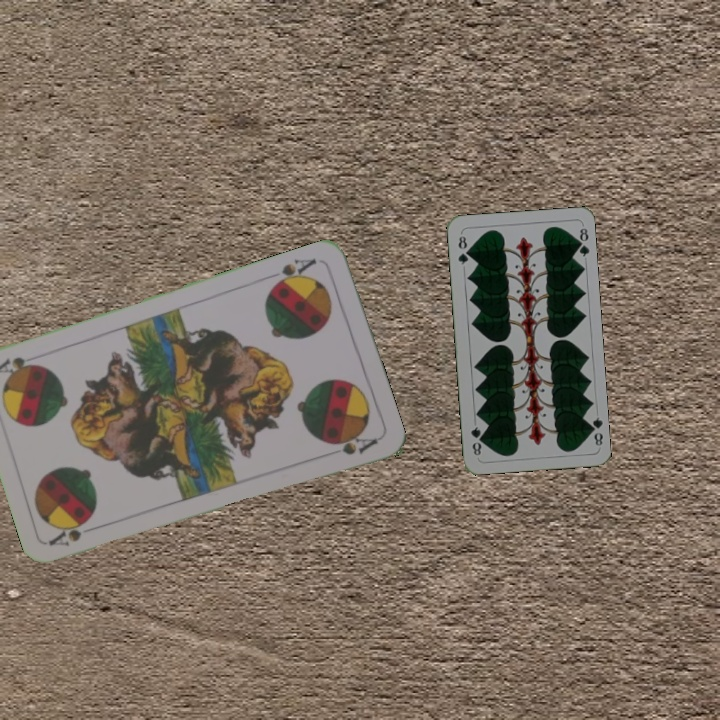G8: (584, 413, 605, 448), (454, 232, 471, 267)
SA: (268, 254, 319, 291), (46, 518, 104, 549)
